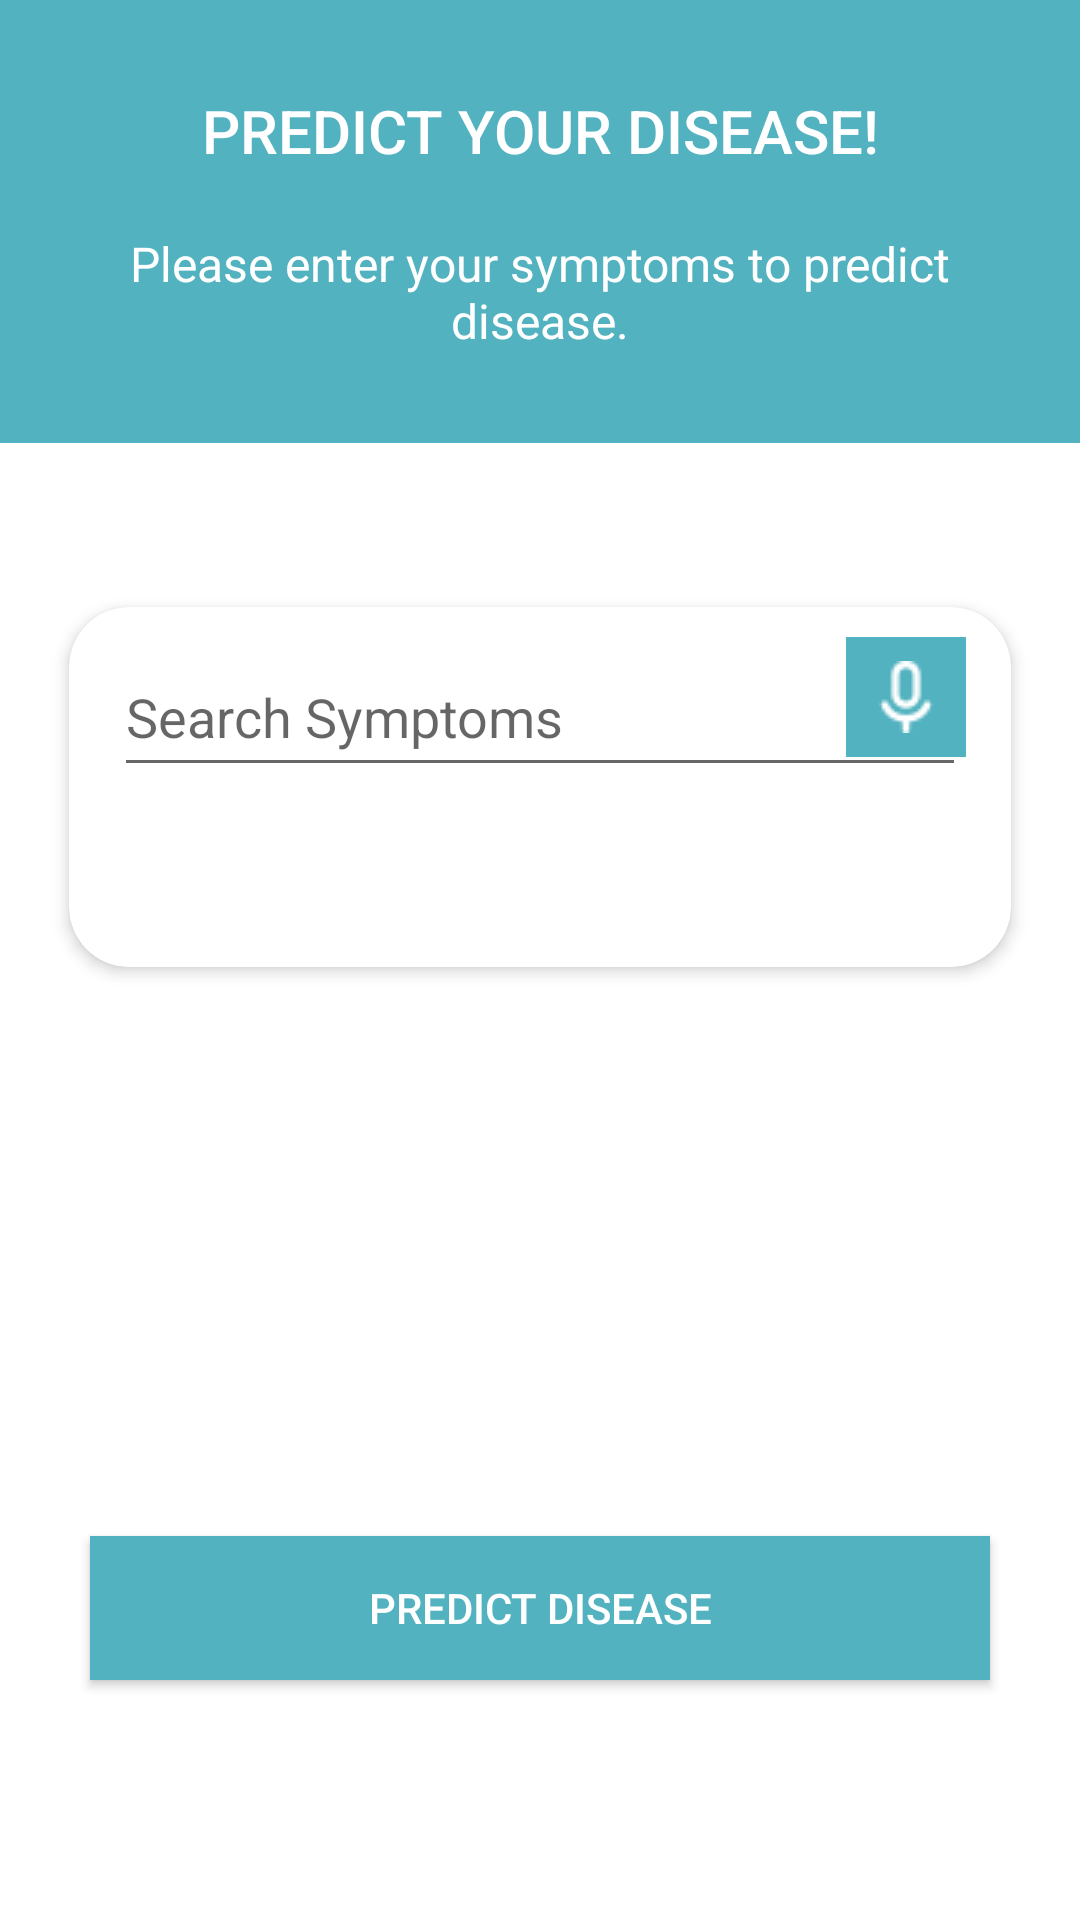

Where icons sit on this 1080*1920 app screen, as bbox=(x1, y1, x2, y2):
microphone: bbox=(846, 637, 966, 757)
